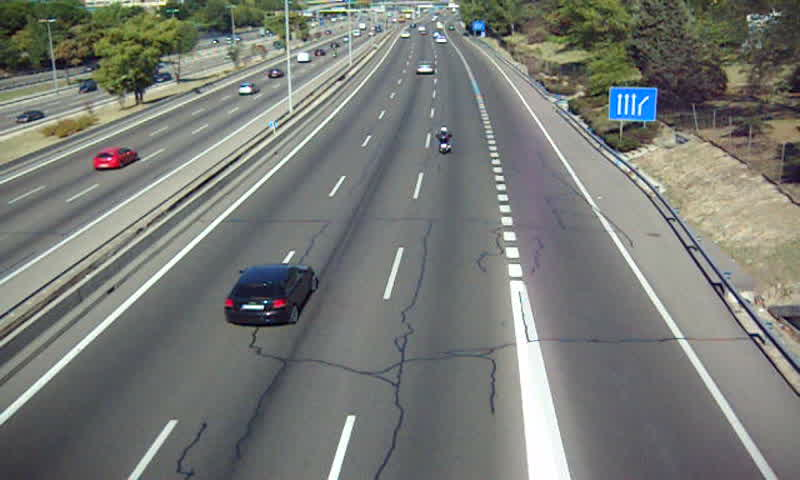car: (226, 263, 320, 326), (416, 61, 435, 76)
motorcycle: (436, 125, 454, 157)
